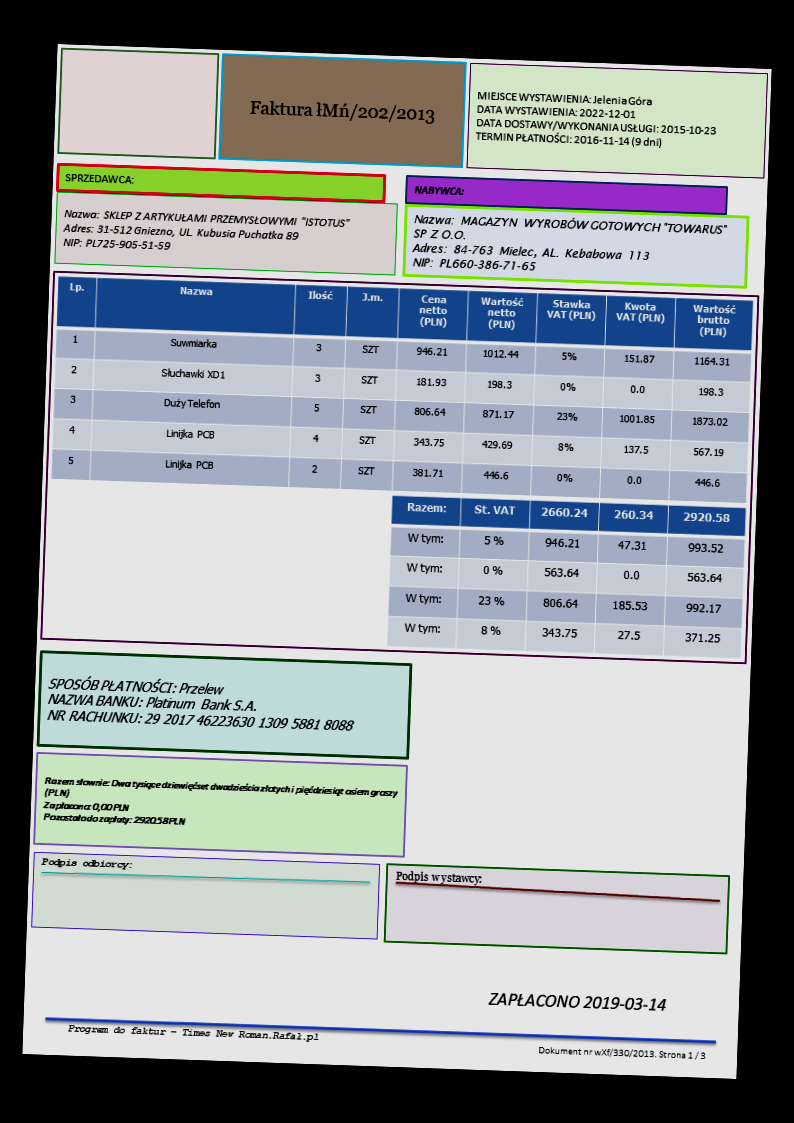Table: (49, 274, 753, 506), (386, 493, 747, 659)
TextBox: (41, 775, 400, 836), (410, 211, 729, 279), (45, 672, 357, 733), (473, 87, 719, 153), (60, 206, 352, 259), (67, 1022, 319, 1045), (247, 97, 436, 127), (486, 988, 667, 1014), (536, 1043, 708, 1062), (395, 868, 483, 888), (39, 856, 133, 872), (63, 170, 134, 186), (412, 182, 465, 199)
